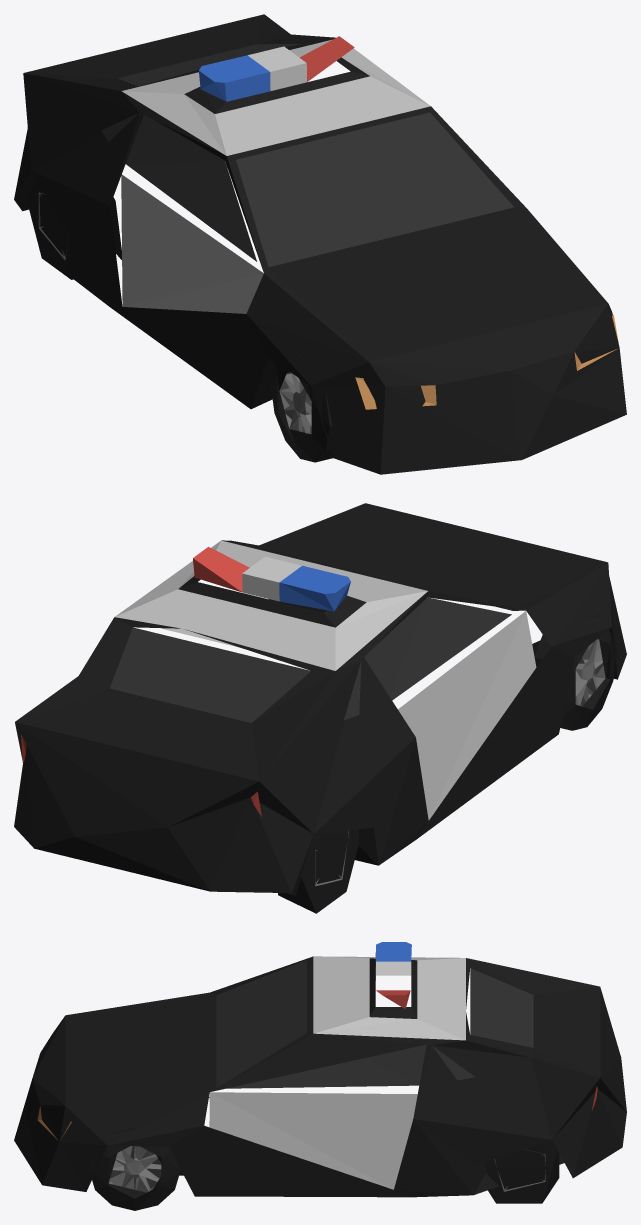
The model's file is cop.glb.
3 views of the same model, one above another, from view 1: azimuth 30°, elevation 25°; view 2: azimuth 150°, elevation 25°; view 3: azimuth 270°, elevation 25° (orthographic). The views are drawn at different scales.
Visible parts, largest first — view 1: Cop, Cop_FrontRightWheel, Cop_BackWheels; view 2: Cop, Cop_FrontRightWheel, Cop_BackWheels; view 3: Cop, Cop_FrontLeftWheel, Cop_BackWheels.
Boxes of the visible parts, left/top/right/bottom form: Cop: left=14, top=14, right=626, bottom=474; Cop_FrontRightWheel: left=270, top=351, right=332, bottom=462; Cop_BackWheels: left=27, top=178, right=73, bottom=279; Cop: left=14, top=503, right=626, bottom=895; Cop_FrontRightWheel: left=534, top=614, right=617, bottom=730; Cop_BackWheels: left=278, top=829, right=358, bottom=913; Cop: left=14, top=942, right=626, bottom=1197; Cop_FrontLeftWheel: left=89, top=1127, right=180, bottom=1210; Cop_BackWheels: left=485, top=1140, right=559, bottom=1203.
Size of the model in its own units: 1.67 by 1.24 by 3.66.
